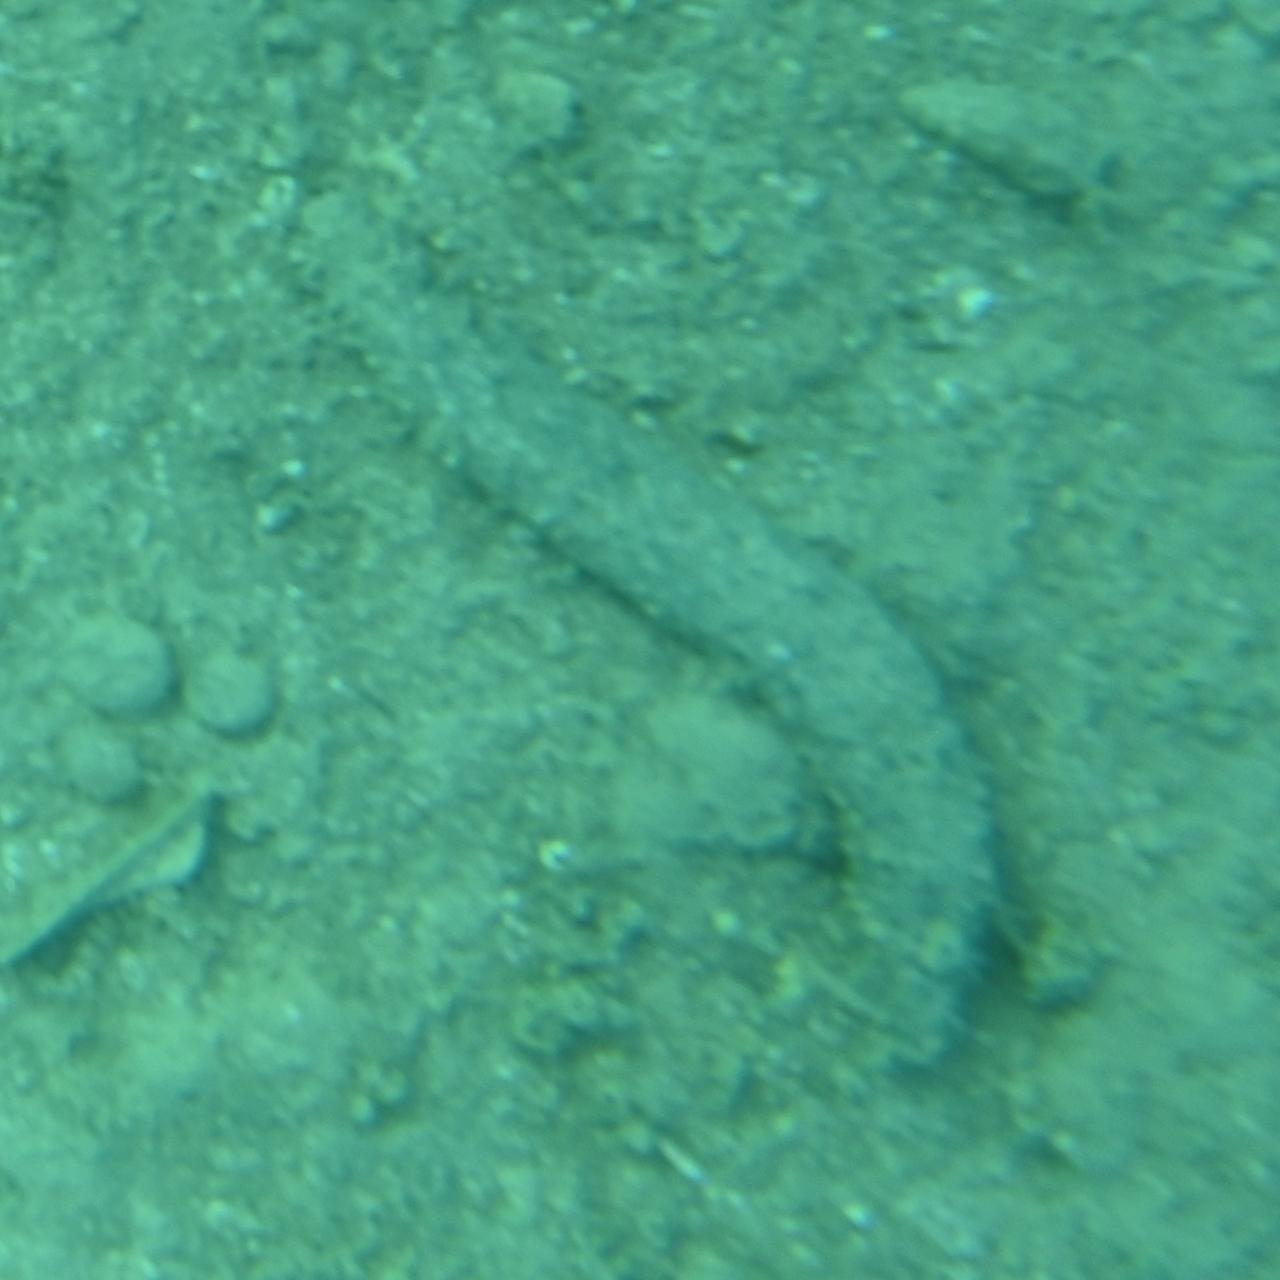Holothuria tubulosa: (246, 186, 1034, 1094)
